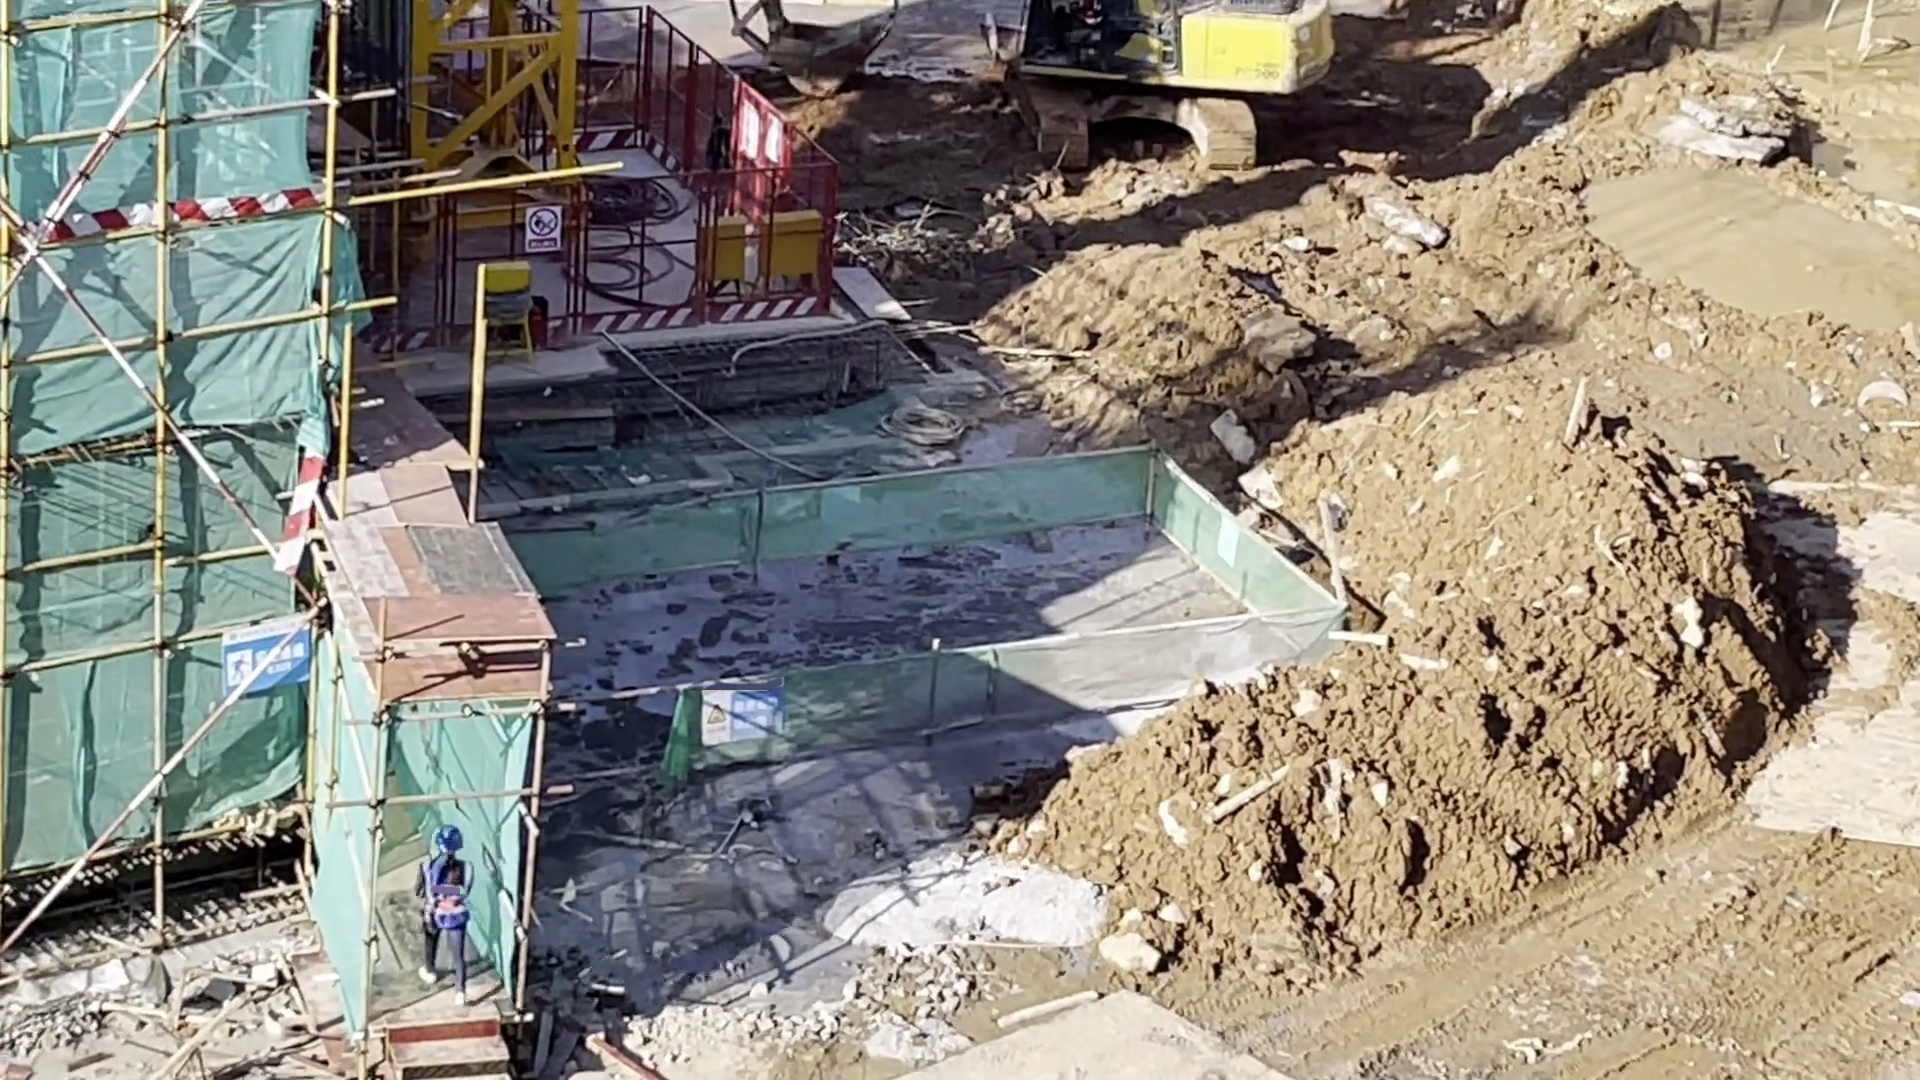ebox: (763, 218, 816, 281), (698, 227, 747, 274)
helmet: (430, 826, 467, 854)
person: (406, 822, 485, 1011)
slogan: (706, 687, 788, 740), (224, 637, 302, 685), (523, 212, 564, 255)
vest: (423, 861, 480, 949)
